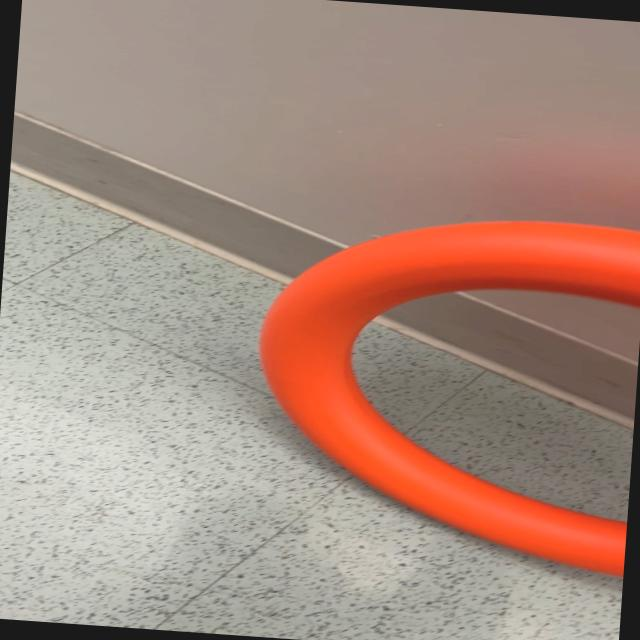note: (242, 199, 640, 578)
